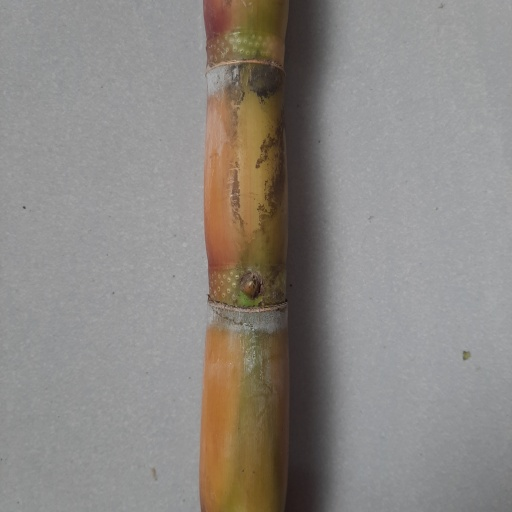Bud: (239, 273, 263, 300)
